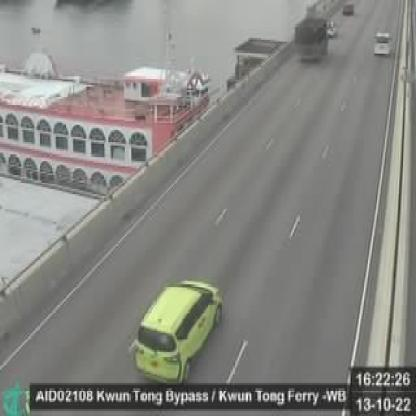Car: (133, 277, 225, 387), (373, 29, 390, 55), (343, 1, 354, 15)
Truck: (294, 18, 329, 66)
